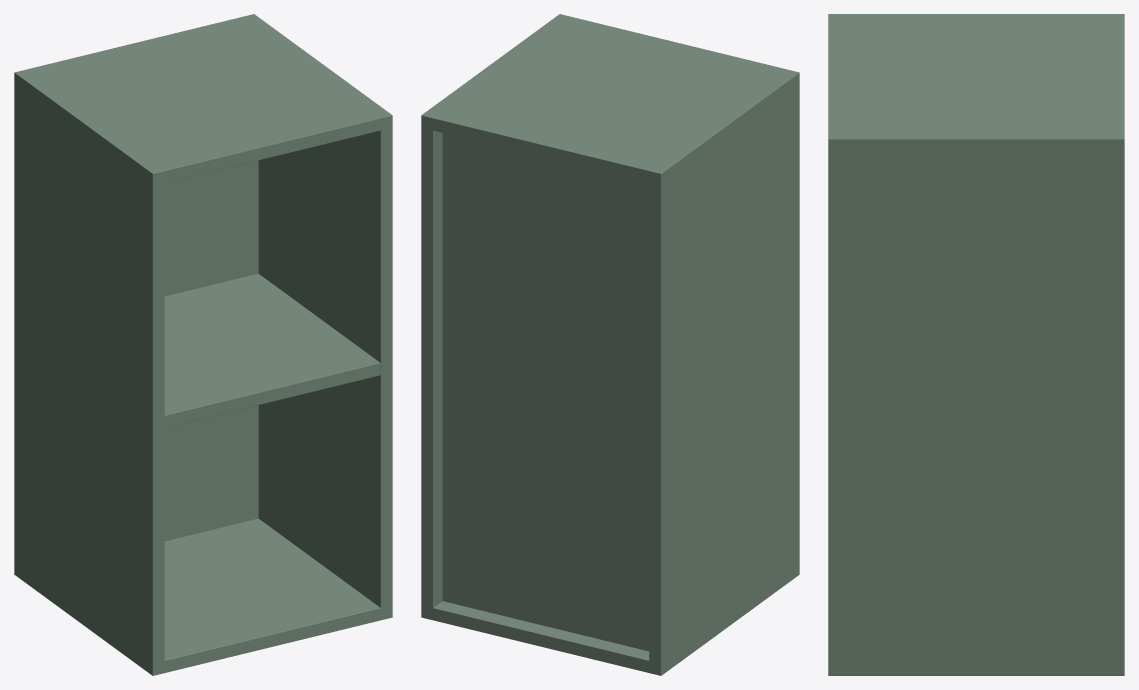
File: MOD_1X2_S_B_VA.glb
3 renders of one model, left to right at view 1: azimuth 30°, elevation 25°; view 2: azimuth 150°, elevation 25°; view 3: azimuth 270°, elevation 25°, orthographic. The views are drawn at different scales.
Size of the model in its own units: 360 by 720 by 360.
